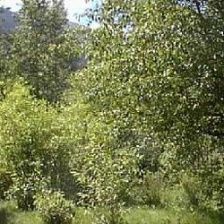neutral: (8, 9, 221, 218)
